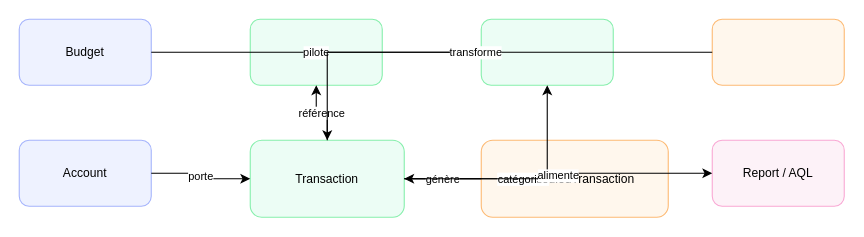
Image size: 864x237. Some labels were removed from this diagram. The shapes that lost their labels are listed below. From the top down, each one's centre as x and y in pixels, then its label:
At pixel 315 51: "Payee".
At pixel 546 51: "Category".
At pixel 777 51: "Rule".
